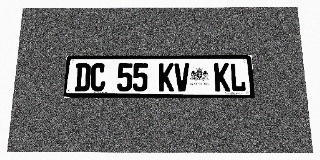5: (117, 63, 133, 92), (133, 63, 148, 92)
C: (90, 63, 106, 92)
D: (74, 63, 91, 92)
K: (214, 63, 230, 92), (159, 63, 174, 92)
L: (229, 63, 246, 92)
V: (174, 63, 190, 92)
